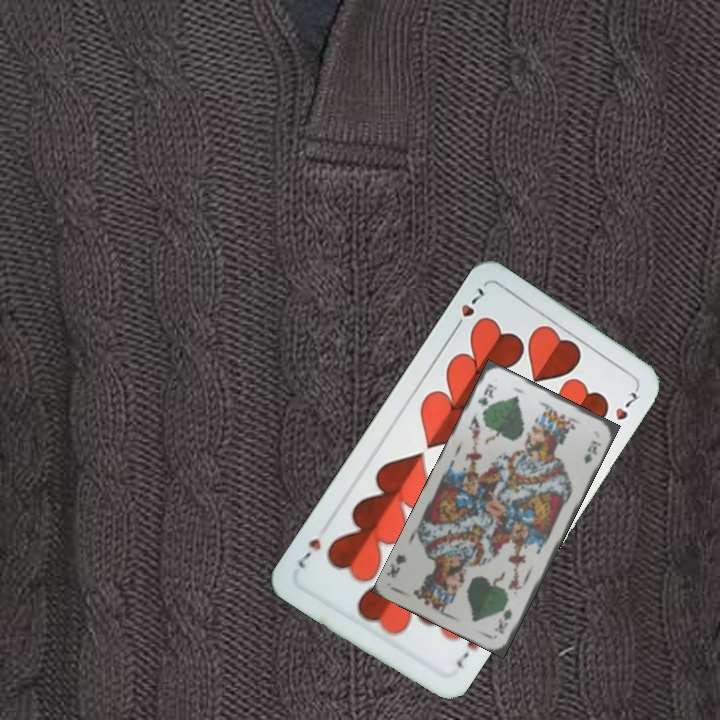GK: (474, 380, 499, 410), (491, 605, 515, 636)
H7: (449, 283, 489, 334), (451, 635, 482, 671)
